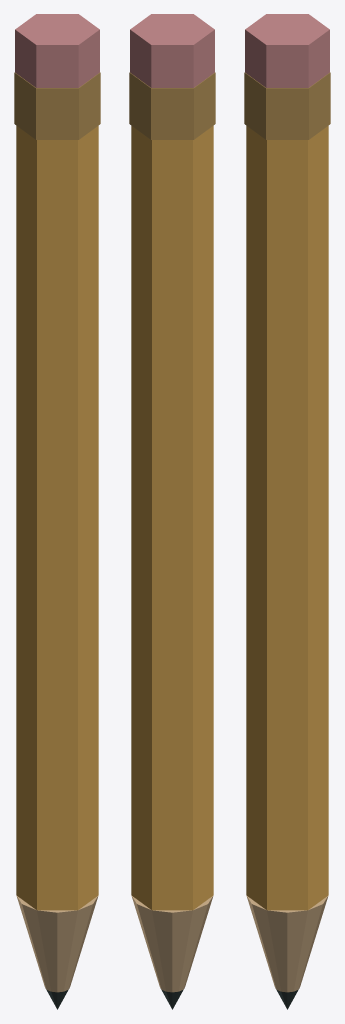
The model's file is lyric_pencil.glb.
3 renders of one model, left to right at view 1: azimuth 30°, elevation 25°; view 2: azimuth 150°, elevation 25°; view 3: azimuth 330°, elevation 25°, orthographic.
Parts seen in each view (by area): view 1: PencilBarrel, Eraser, EraserCollar, SharpenedWood; view 2: PencilBarrel, Eraser, EraserCollar, SharpenedWood; view 3: PencilBarrel, Eraser, EraserCollar, SharpenedWood.
Part boxes in pixels (box(x1,y1,x2,y2)): PencilBarrel: box(16, 126, 98, 910); Eraser: box(15, 14, 99, 87); EraserCollar: box(14, 72, 100, 139); SharpenedWood: box(16, 895, 98, 992); PencilBarrel: box(131, 126, 213, 910); Eraser: box(130, 14, 214, 87); EraserCollar: box(129, 72, 215, 139); SharpenedWood: box(131, 895, 213, 992); PencilBarrel: box(246, 126, 328, 910); Eraser: box(245, 14, 329, 87); EraserCollar: box(244, 72, 330, 139); SharpenedWood: box(246, 895, 328, 992).
Bounding box in the file's own units: 0.013 × 0.171 × 0.0136.
